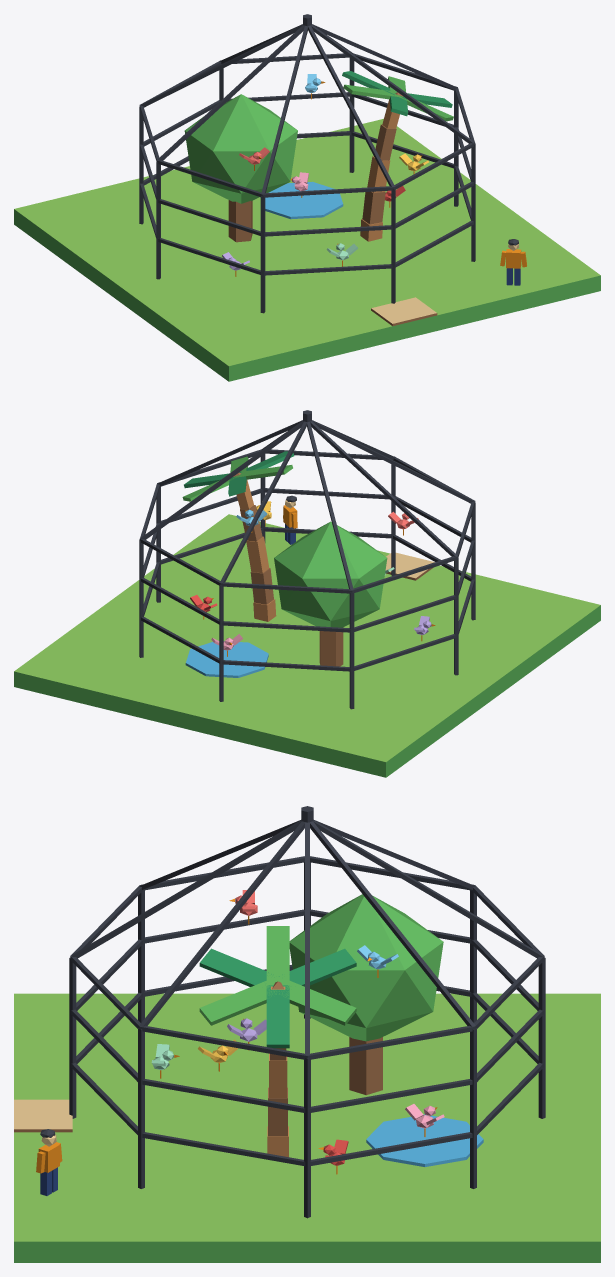
Rendered from zoo_aviary.glb.
3 views of the same model, one above another, from view 1: azimuth 30°, elevation 25°; view 2: azimuth 150°, elevation 25°; view 3: azimuth 270°, elevation 25° (orthographic). The views are drawn at different scales.
Visible parts, largest first — view 1: zoo_aviary; view 2: zoo_aviary; view 3: zoo_aviary.
Part boxes in pixels (box(x1,y1,x2,y2)): zoo_aviary: box(14, 14, 600, 381); zoo_aviary: box(14, 410, 600, 777); zoo_aviary: box(14, 806, 600, 1262).
Size of the model in its own units: 1 by 0.6211 by 1.
